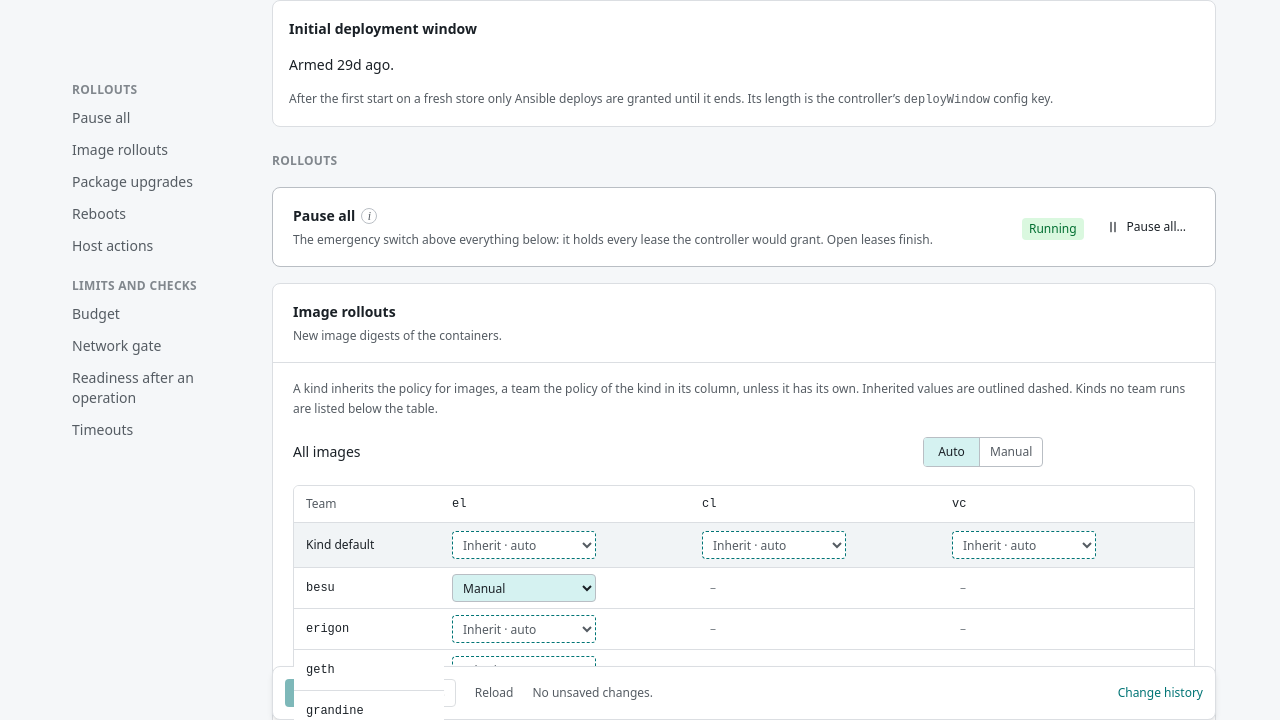
Test case: SettingsTab › has a column per kind a team runs, the other kinds below, each inheriting the image policy
Expected: the column headings read "Team", "el", "cl", "vc", in this order, x1=294 y1=486 x2=444 y2=523; x1=444 y1=486 x2=694 y2=523; x1=694 y1=486 x2=944 y2=523; x1=944 y1=486 x2=1194 y2=523
Select "Manual" in the dropdown named "Image policy of the kind cl" at [774, 545], box x1=702 y1=531 x2=846 y2=559
(page scrolled)
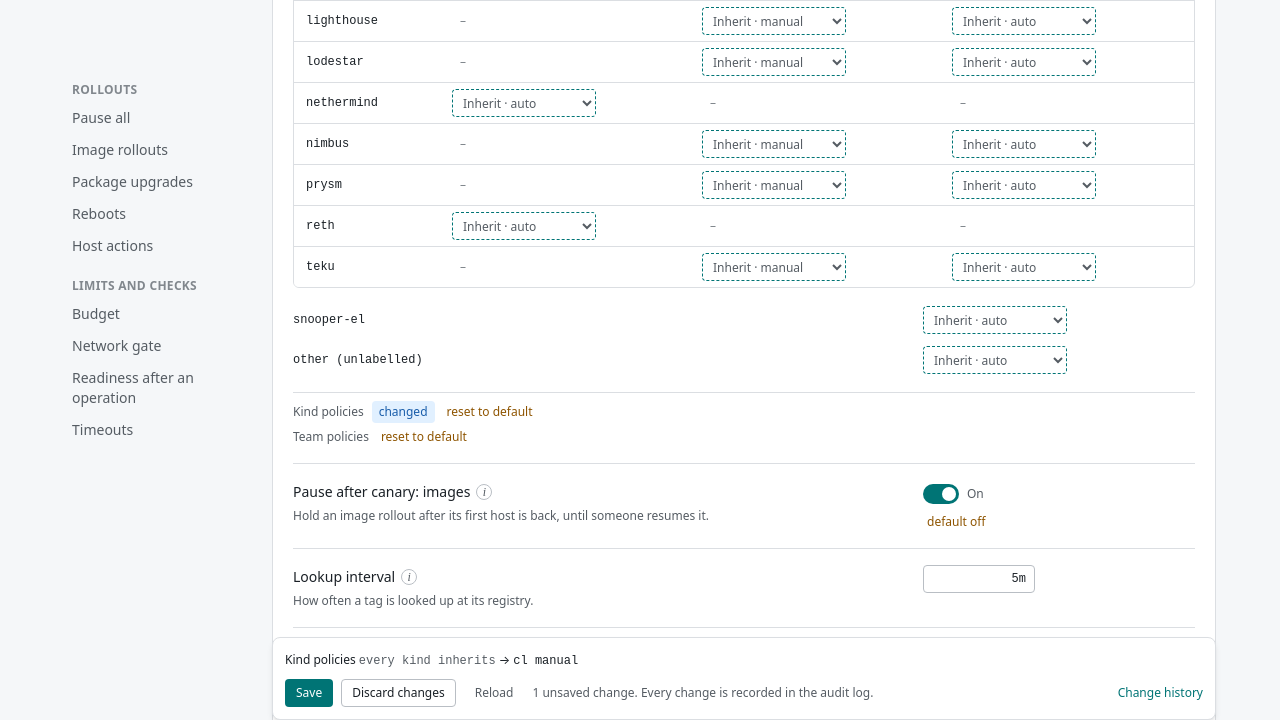
Select "Automatic" in the dropdown named "Image policy of the kind other" at [995, 360], box x1=923 y1=346 x2=1067 y2=374
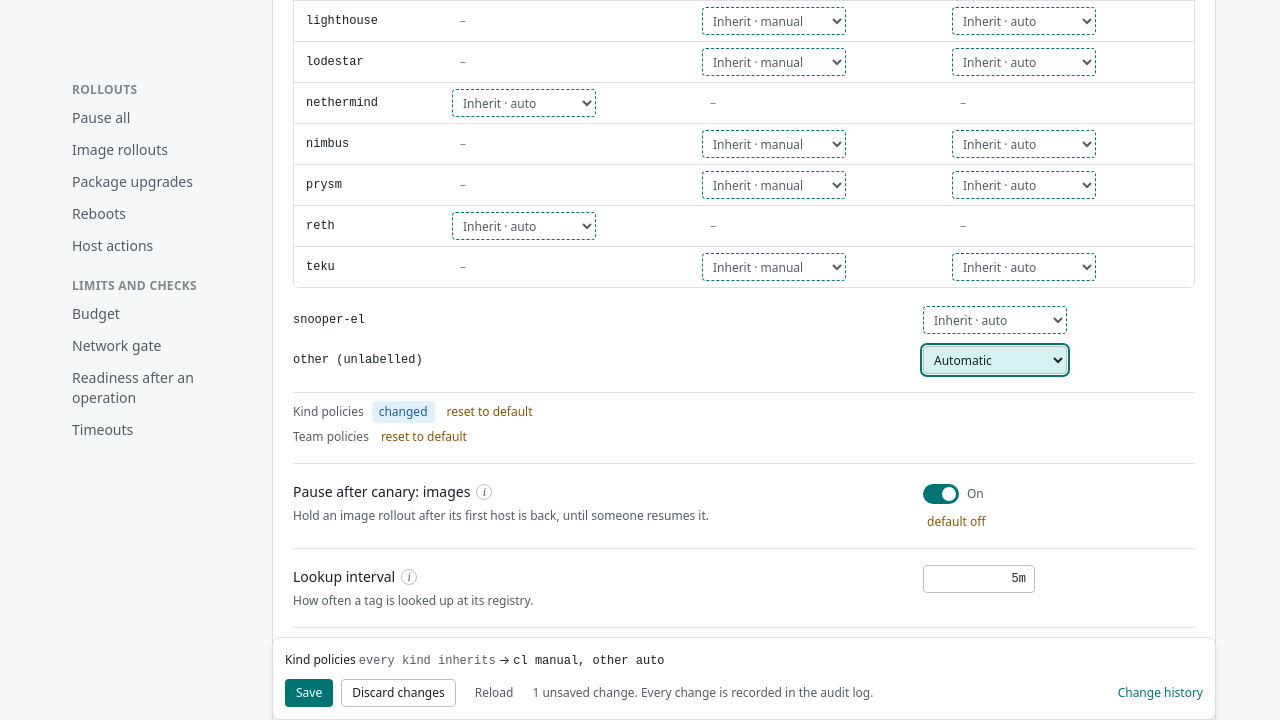
Click the button "Save" at [309, 693], box x1=285 y1=679 x2=333 y2=707
(page scrolled)
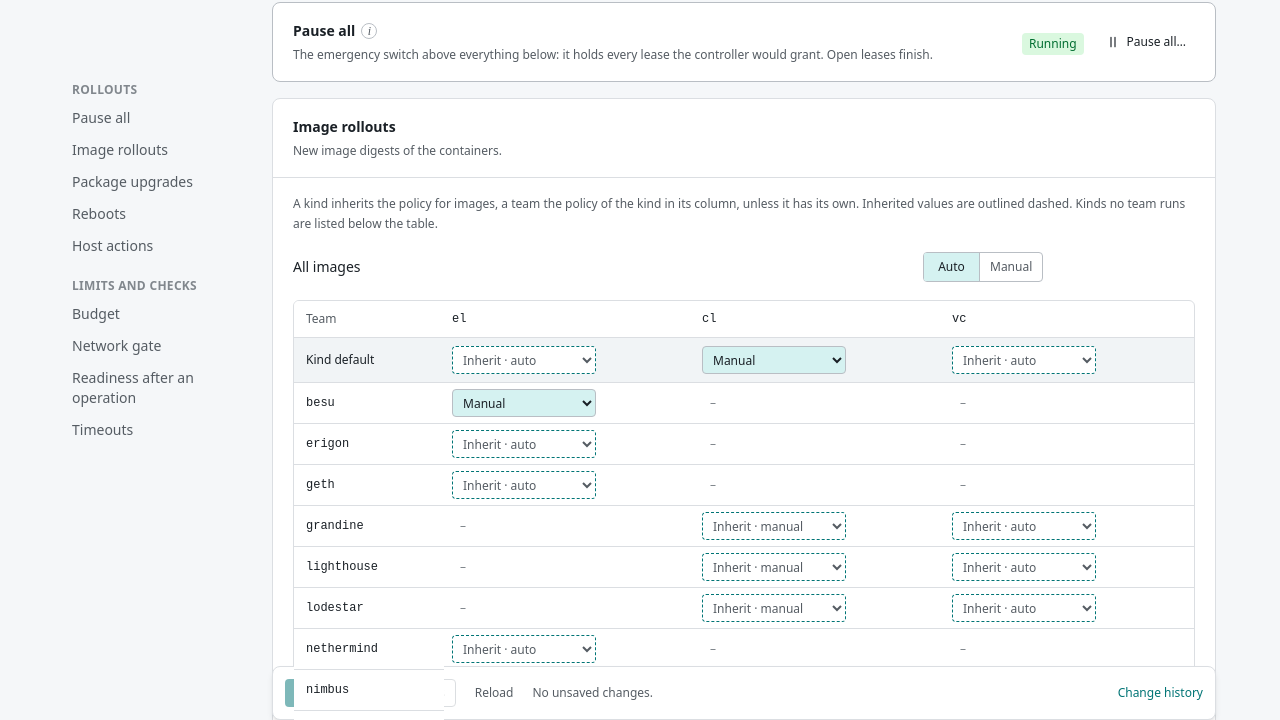
Now the dropdown named "Image policy of the kind cl" shows "Manual", box x1=702 y1=346 x2=846 y2=374
Now the message reads "No unsaved changes.", box x1=532 y1=684 x2=653 y2=701
